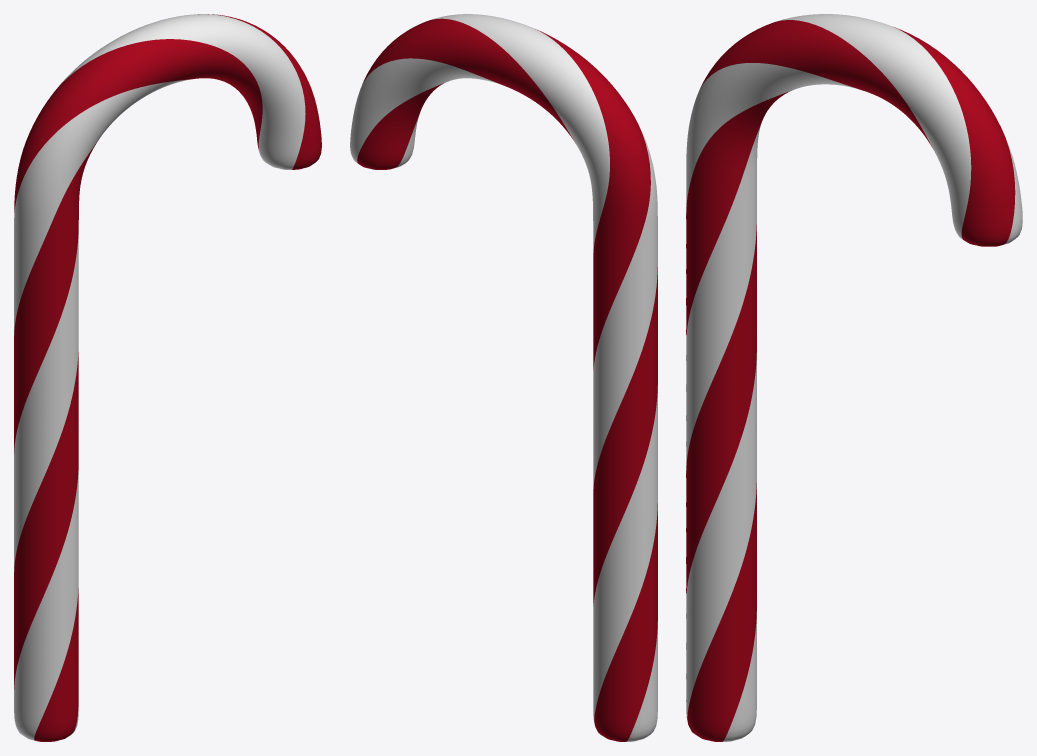
File: candycane_2.fbx
The picture shows the model from 3 angles, left to right: view 1: azimuth 30°, elevation 25°; view 2: azimuth 150°, elevation 25°; view 3: azimuth 330°, elevation 25°; orthographic projection. The views are drawn at different scales.
Visible parts, largest first — view 1: Circle; view 2: Circle; view 3: Circle.
Part boxes in pixels (left/top/right/bottom): Circle: left=14, top=14, right=321, bottom=741; Circle: left=350, top=14, right=657, bottom=741; Circle: left=686, top=14, right=1022, bottom=741.
Bounding box in the file's own units: 995 × 2165 × 187.
